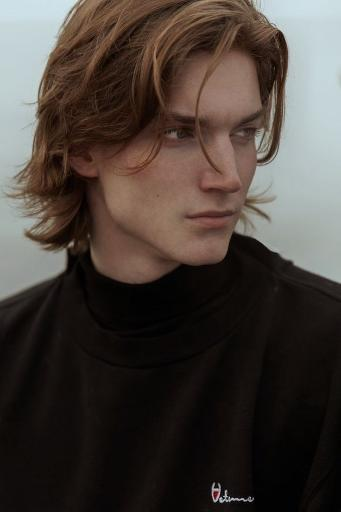left_eye: (229, 126, 261, 141)
left_lip_corner: (226, 209, 239, 221)
right_eye: (164, 126, 196, 145)
right_lip_corner: (182, 210, 197, 225)
